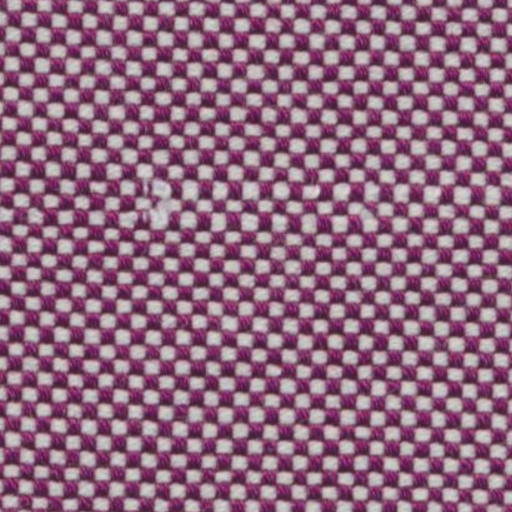TuoSha: (8, 159, 500, 268)
